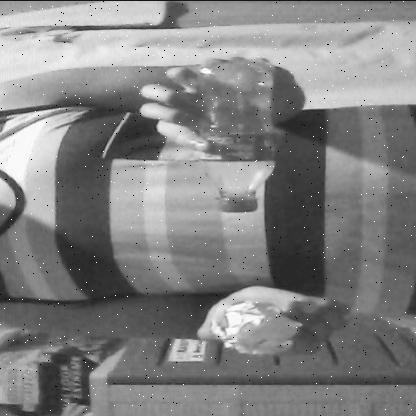Plastic Bottle: (178, 49, 295, 216)
